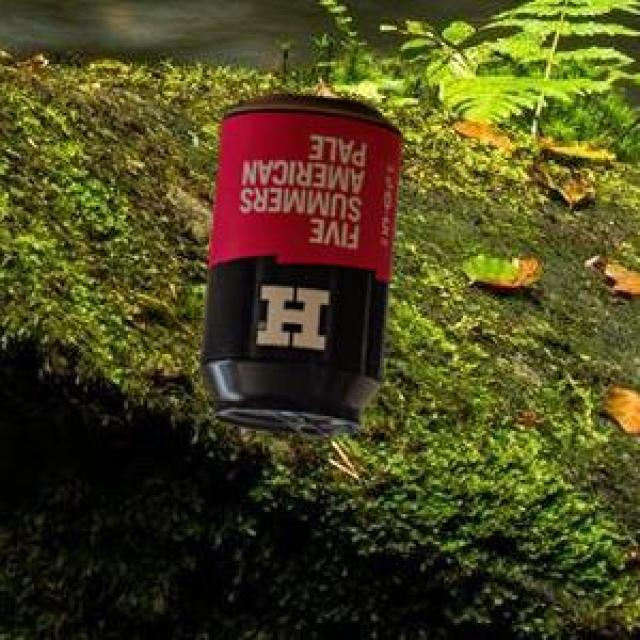logam: (197, 91, 400, 434)
